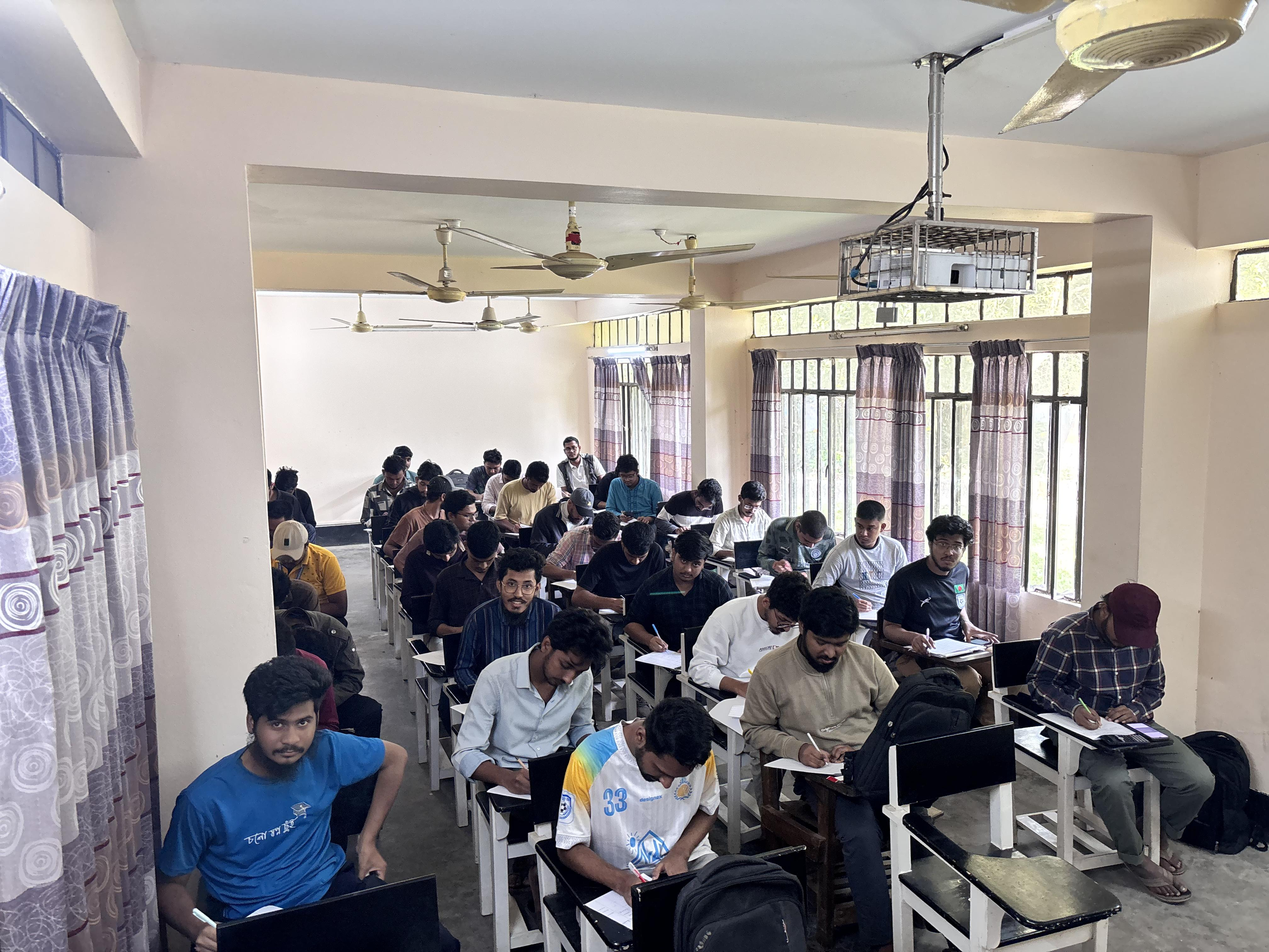no_cheating: (159, 662, 392, 933), (574, 699, 745, 952), (760, 599, 918, 813), (477, 611, 605, 784), (700, 565, 800, 683), (654, 530, 719, 641), (477, 550, 550, 642), (767, 505, 838, 584), (843, 499, 891, 601), (271, 517, 325, 607), (672, 476, 734, 551), (557, 509, 622, 576), (607, 520, 657, 607), (454, 520, 507, 601), (728, 481, 778, 559), (609, 458, 663, 530), (541, 487, 594, 555), (509, 460, 553, 530), (559, 435, 602, 488), (435, 491, 477, 538), (378, 455, 416, 503), (470, 448, 504, 492), (411, 461, 444, 506)
using_phone: (1032, 564, 1196, 823), (906, 512, 1017, 672), (608, 451, 652, 527)
